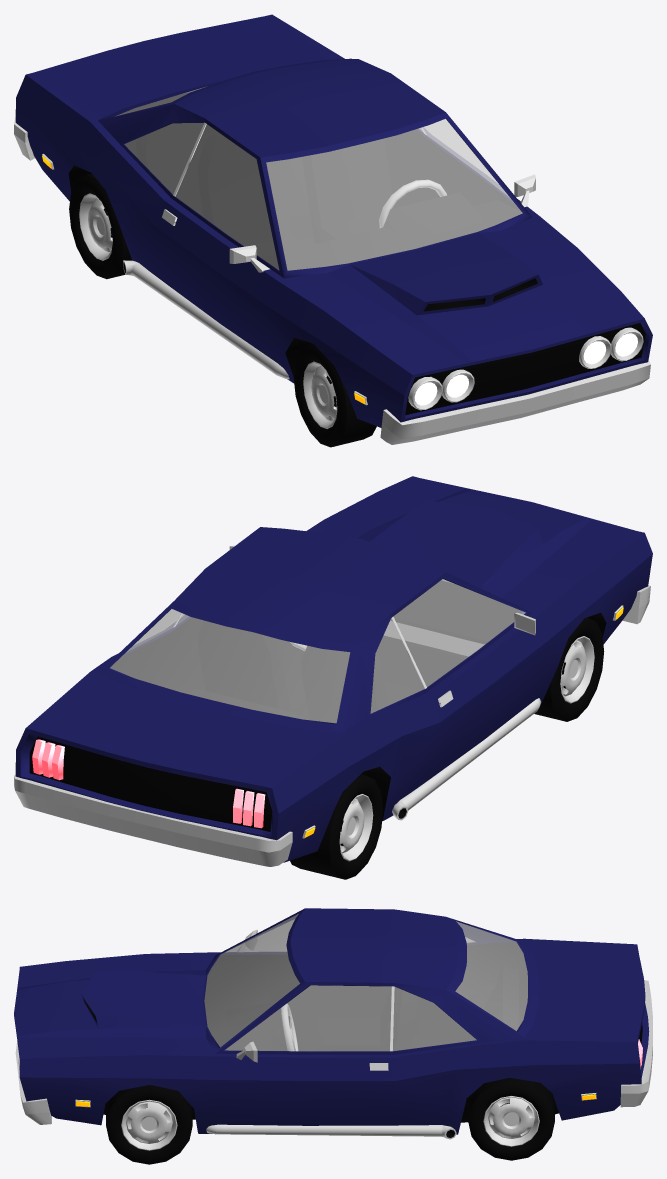
The model's file is car1.glb.
The picture shows the model from 3 angles, top to bottom: view 1: azimuth 30°, elevation 25°; view 2: azimuth 150°, elevation 25°; view 3: azimuth 270°, elevation 25°; orthographic projection. The views are drawn at different scales.
Visible parts, largest first — view 1: Cube_0, Cube.001_3, Cube.005_6; view 2: Cube_0, Cube.005_6, Cube.001_3; view 3: Cube_0, Cube.002_4, Cube.004_5.
Boxes of the visible parts, x1,y1,x2,y2 form: Cube_0: [14, 14, 652, 444]; Cube.001_3: [293, 343, 376, 447]; Cube.005_6: [69, 173, 132, 279]; Cube_0: [14, 476, 652, 866]; Cube.005_6: [290, 774, 383, 879]; Cube.001_3: [534, 617, 604, 721]; Cube_0: [14, 908, 652, 1139]; Cube.002_4: [468, 1078, 554, 1160]; Cube.004_5: [106, 1085, 192, 1164].
Bounding box in the file's own units: 143 × 94.08 × 318.
